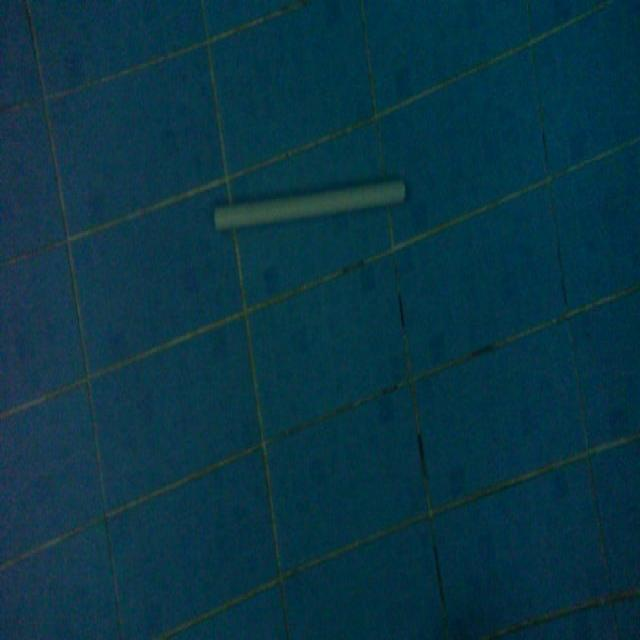Cube: (211, 172, 407, 235)
